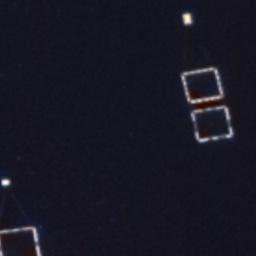square_solid: (178, 63, 229, 106), (188, 103, 237, 146), (1, 222, 43, 256)
